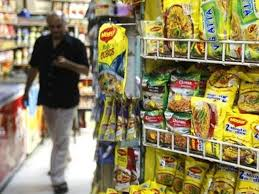maggie: (223, 116, 255, 165)
